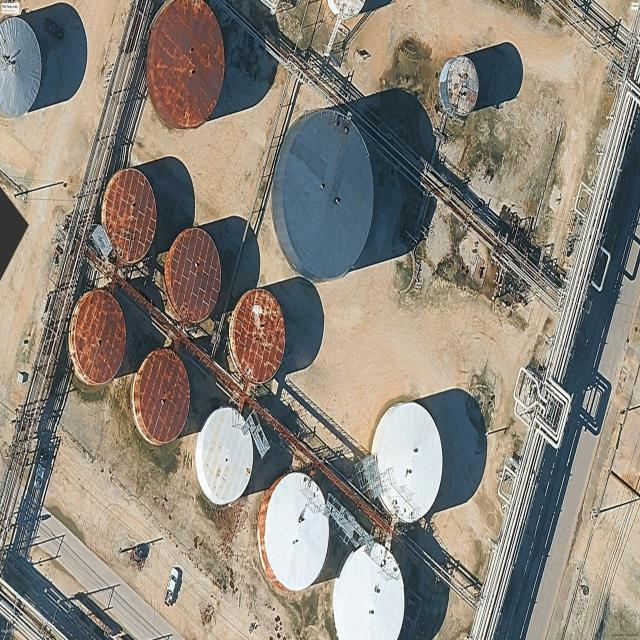Oil Rafinery: (273, 110, 374, 280), (146, 0, 225, 129), (258, 472, 329, 592), (372, 402, 443, 522), (332, 543, 405, 640), (195, 406, 253, 505), (131, 348, 190, 445), (68, 289, 126, 385), (164, 228, 221, 324), (229, 289, 286, 384), (101, 168, 156, 264), (0, 17, 41, 117), (439, 56, 479, 118)
